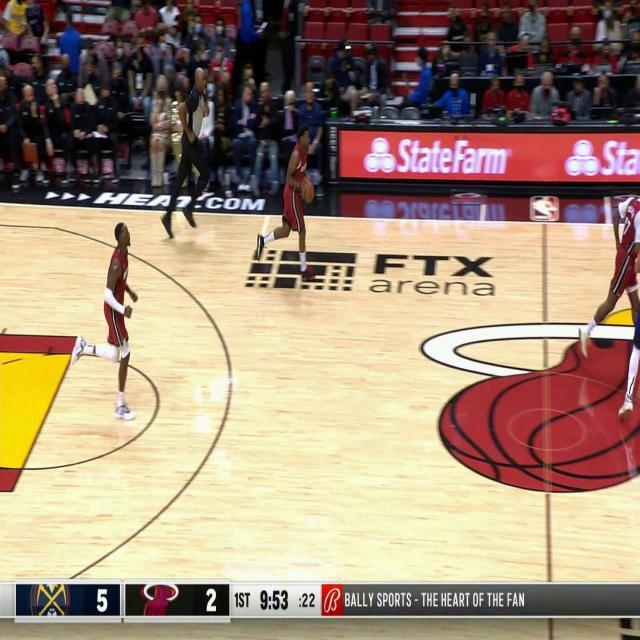rim: (302, 180, 314, 202)
